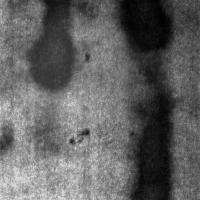patches: (7, 3, 141, 137), (130, 78, 173, 200), (29, 1, 76, 92), (116, 1, 174, 53)
